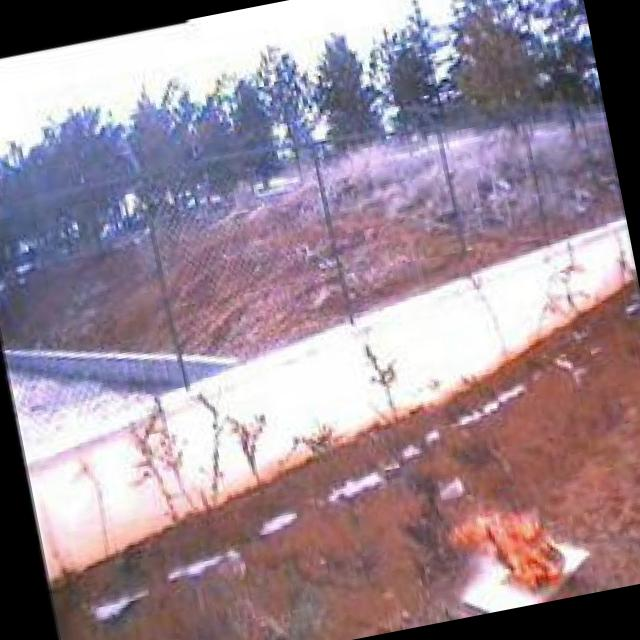Fire: (440, 490, 570, 616)
